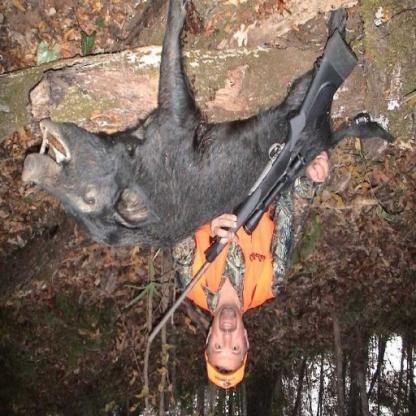boar: (0, 1, 413, 283)
